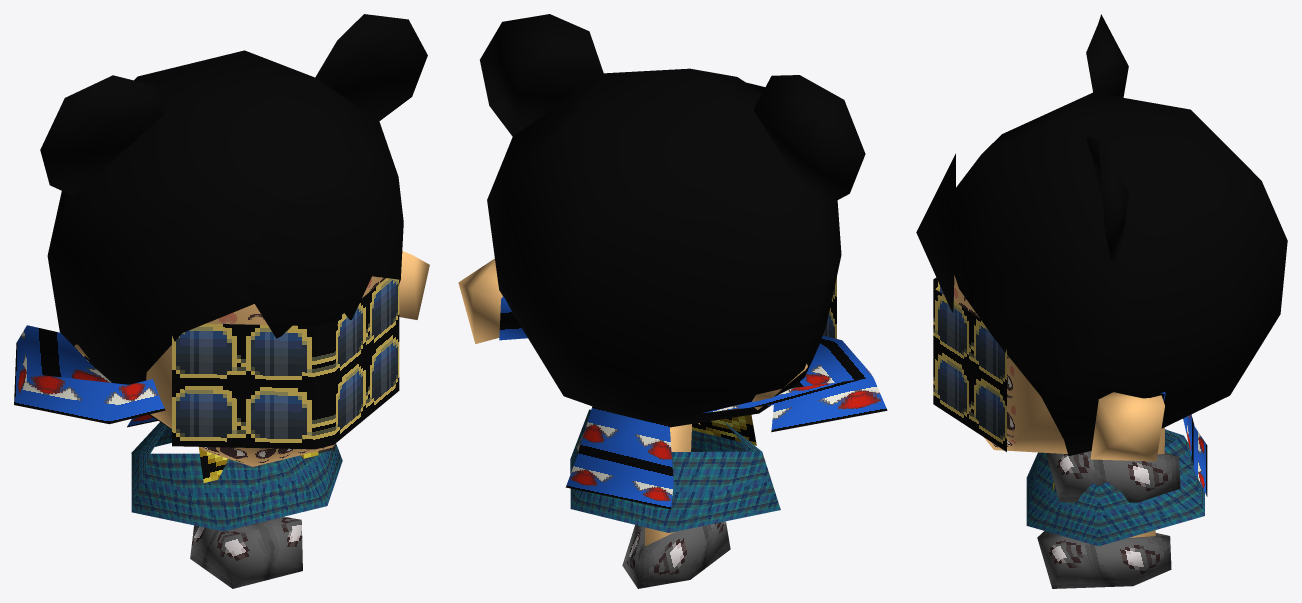
3 views of the same model, side by side, from view 1: azimuth 30°, elevation 25°; view 2: azimuth 150°, elevation 25°; view 3: azimuth 270°, elevation 25° (orthographic). The views are drawn at different scales.
Parts seen in each view (by area): view 1: pmd44_00_01; view 2: pmd44_00_01; view 3: pmd44_00_01.
Boxes of the visible parts, x1,y1,x2,y2 form: pmd44_00_01: (14, 14, 429, 588); pmd44_00_01: (458, 14, 887, 588); pmd44_00_01: (916, 14, 1287, 588).
Bounding box in the file's own units: 1.22 × 1.42 × 0.9788.
8 materials, 8 textured.
